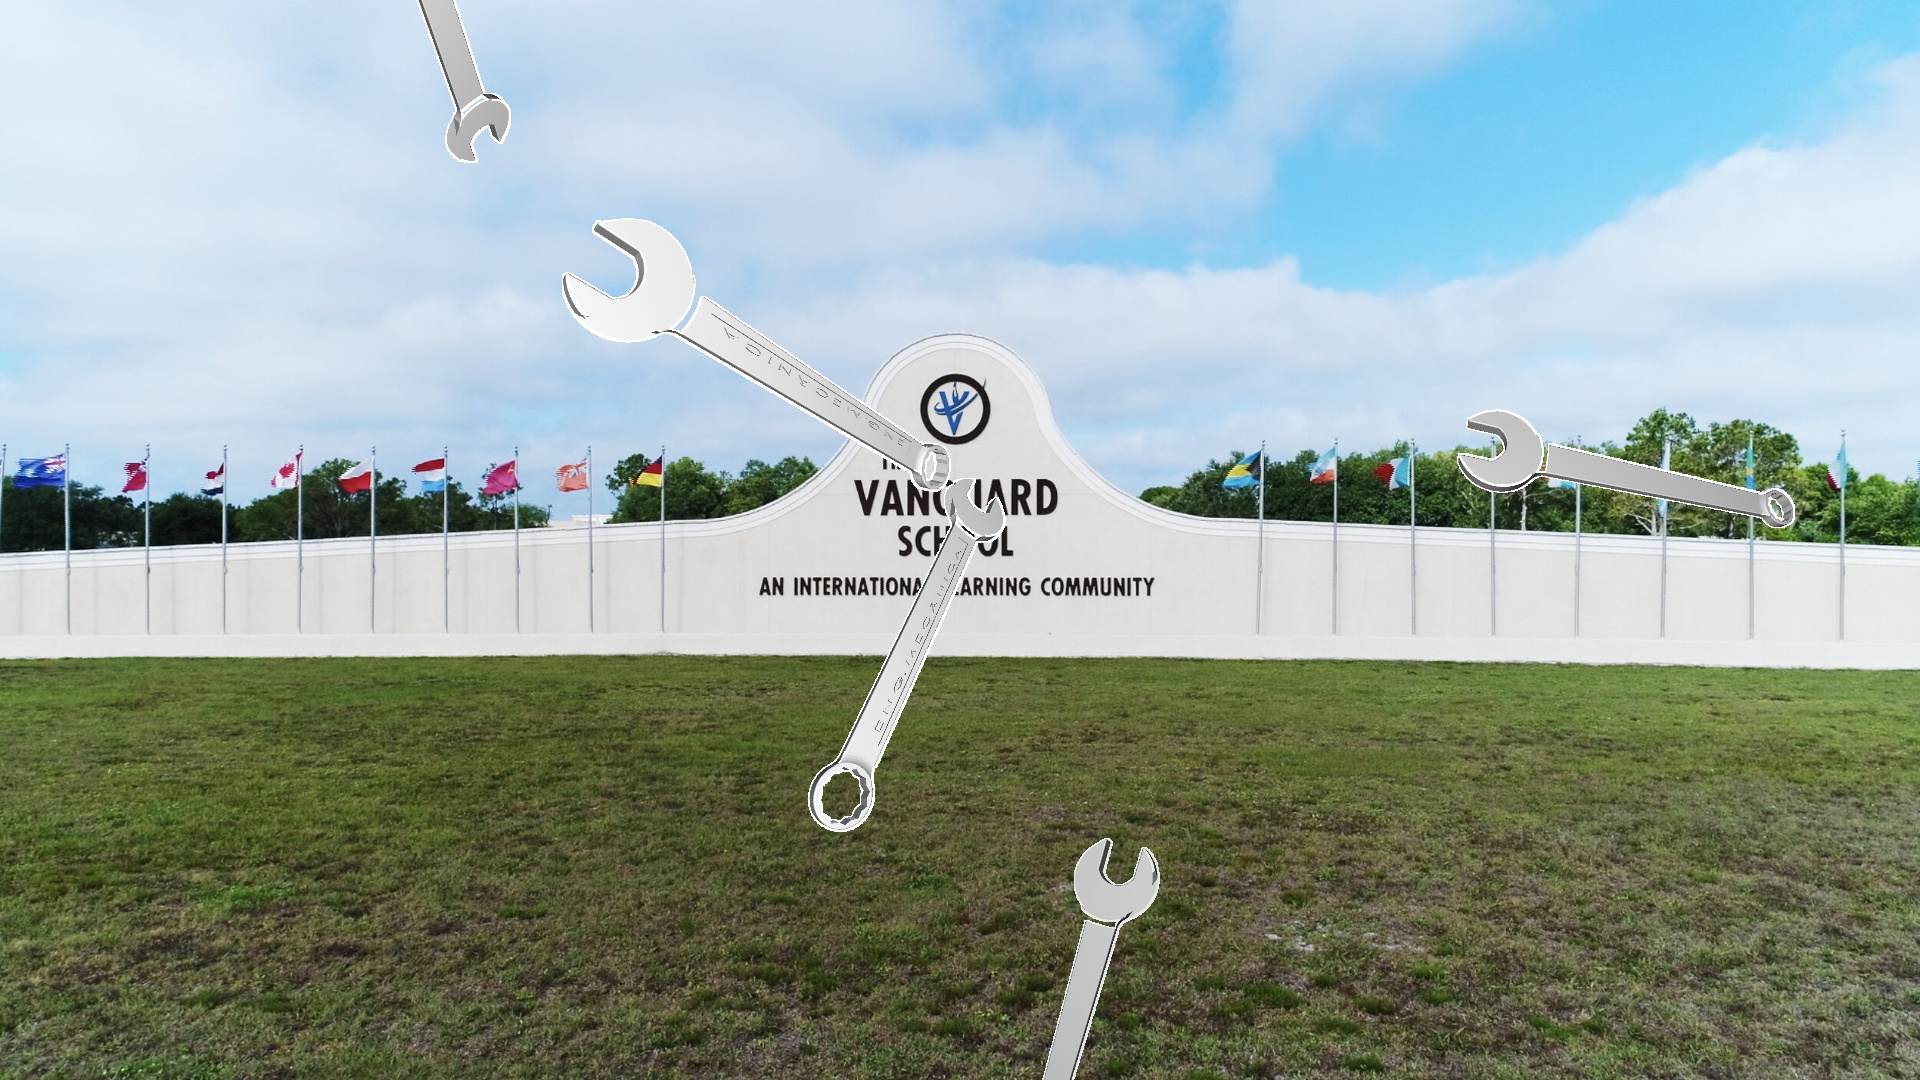Mixed Key: (562, 218, 949, 491), (808, 477, 1005, 831), (1457, 409, 1793, 527), (1042, 837, 1159, 1079), (415, 0, 510, 162)
